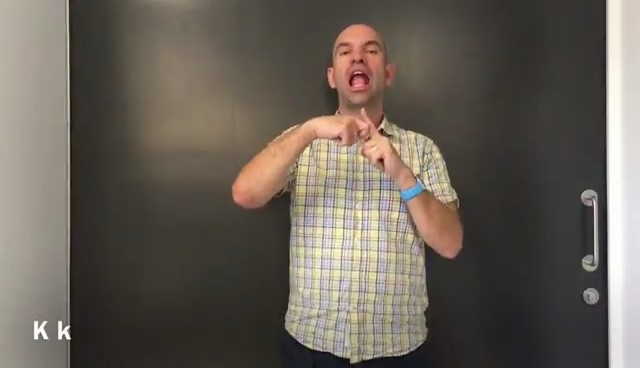K: (298, 101, 410, 183)
